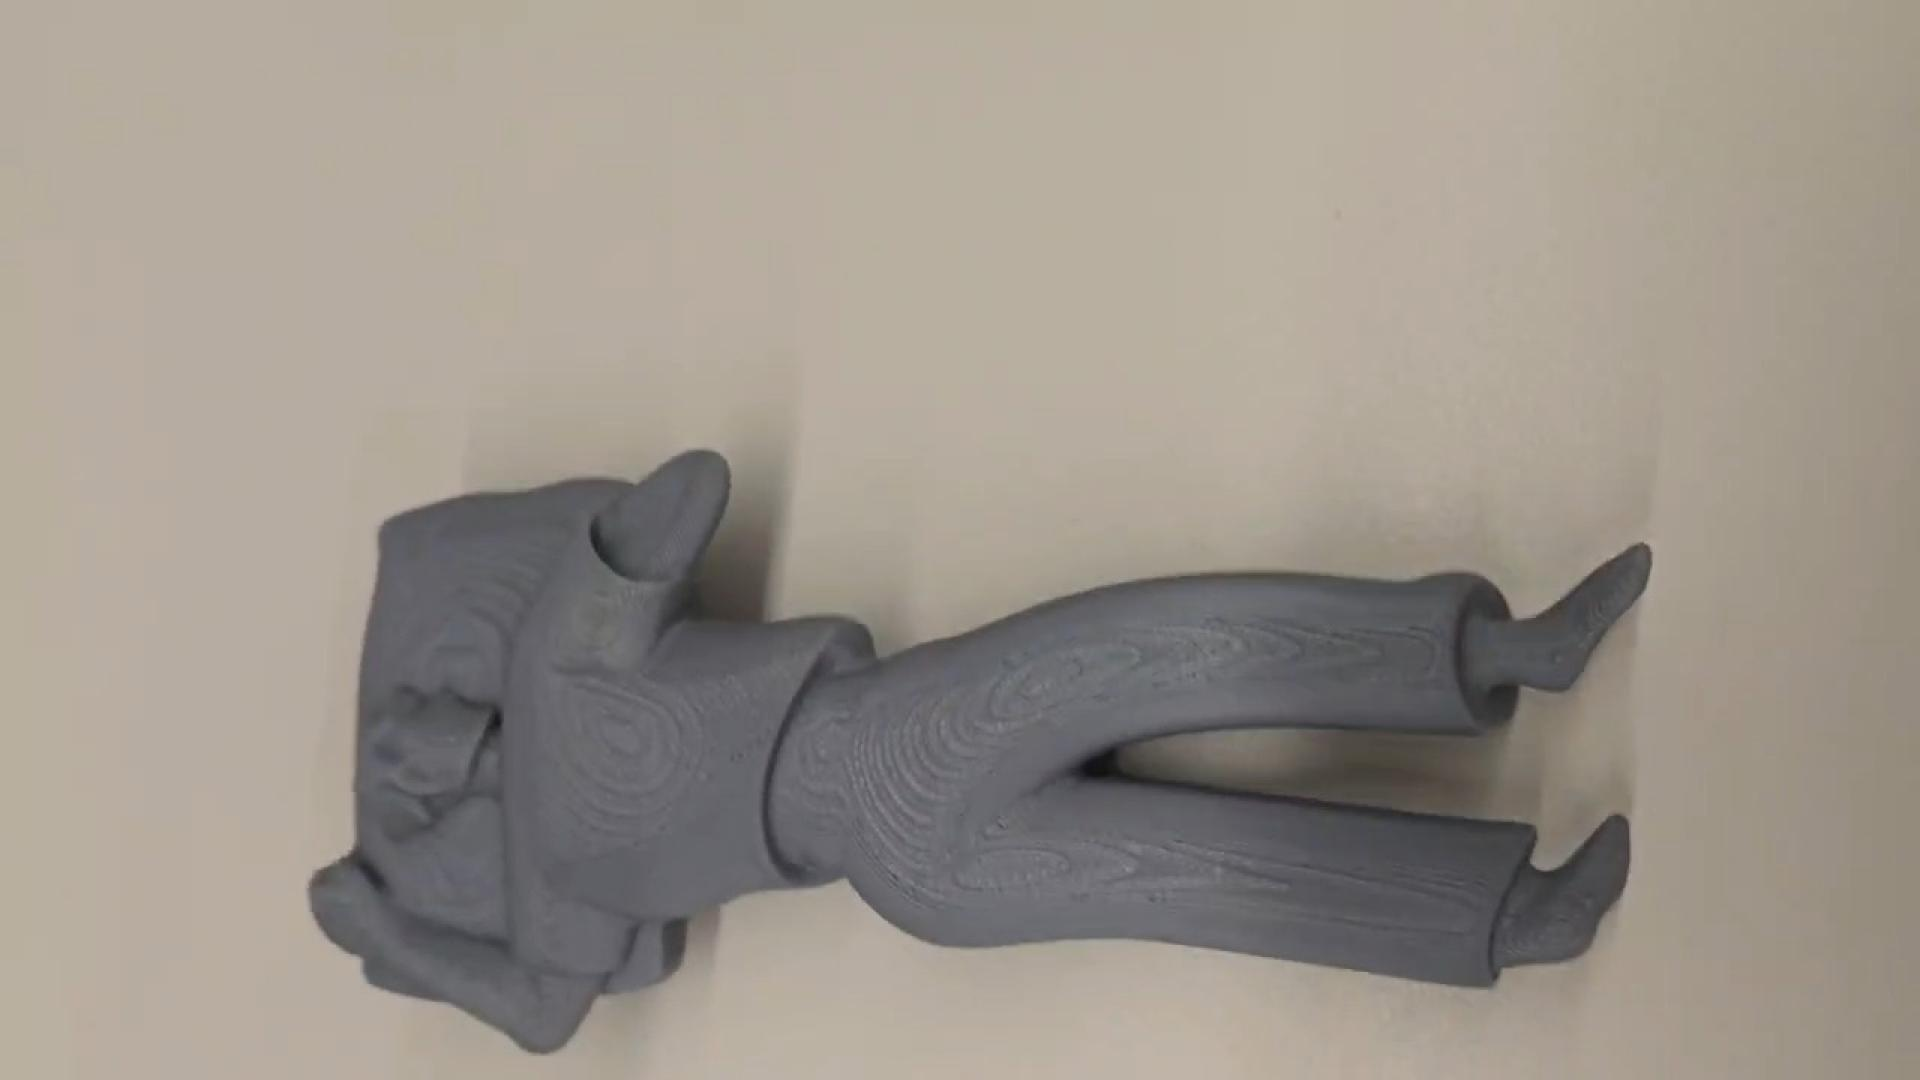Bad-style: (302, 446, 1662, 1062)
